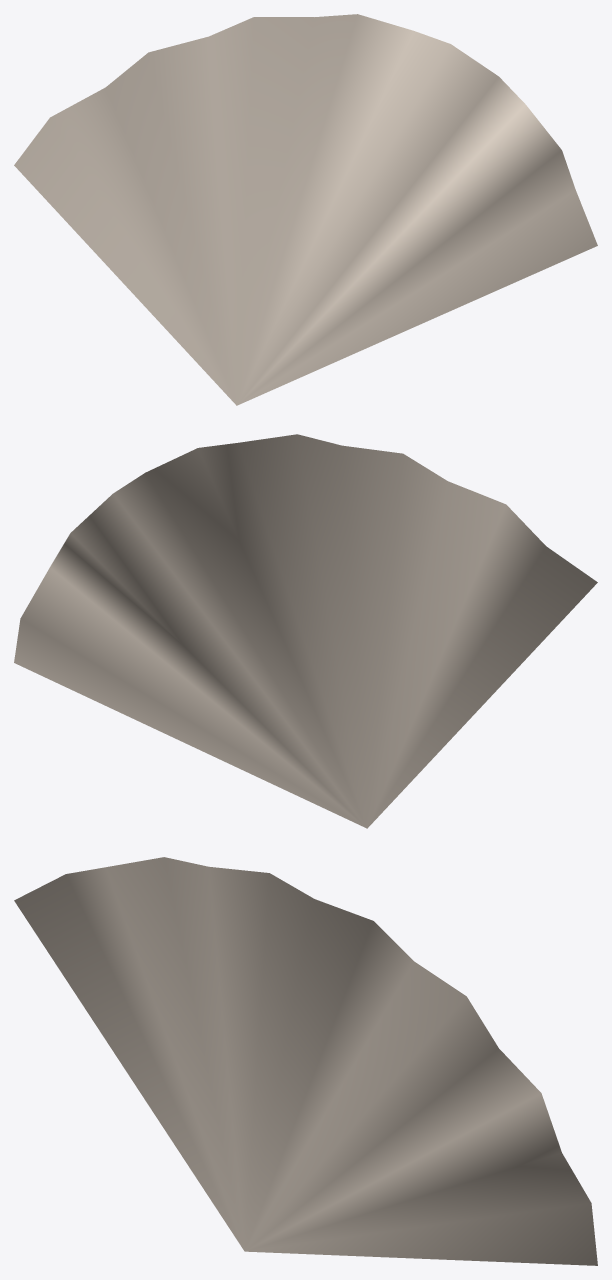
Rendered from quat_xep.glb.
The picture shows the model from 3 angles, top to bottom: view 1: azimuth 30°, elevation 25°; view 2: azimuth 150°, elevation 25°; view 3: azimuth 330°, elevation 25°; orthographic projection.
Visible parts, largest first — view 1: Accessory_QuatXep_Node; view 2: Accessory_QuatXep_Node; view 3: Accessory_QuatXep_Node.
Boxes of the visible parts, bbox=[...] form: Accessory_QuatXep_Node: bbox=[14, 14, 597, 405]; Accessory_QuatXep_Node: bbox=[14, 434, 597, 828]; Accessory_QuatXep_Node: bbox=[14, 857, 597, 1265].
Bounding box in the file's own units: 0.2563 × 0.1597 × 0.006.
